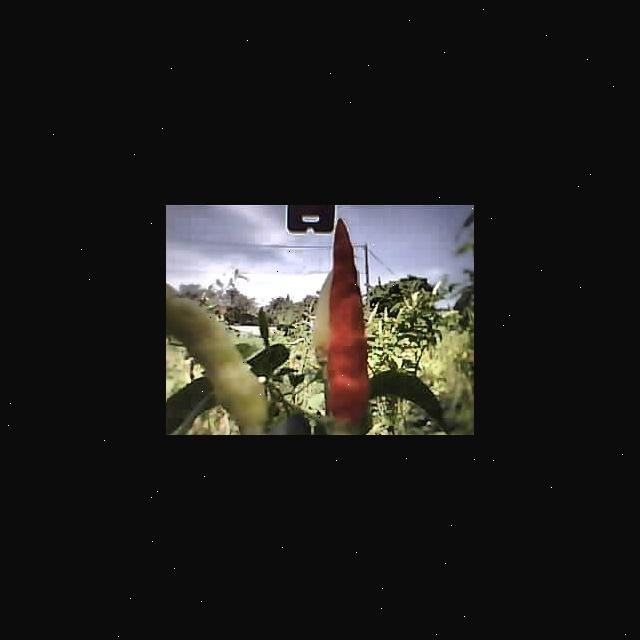Cabai: (328, 220, 371, 422)
